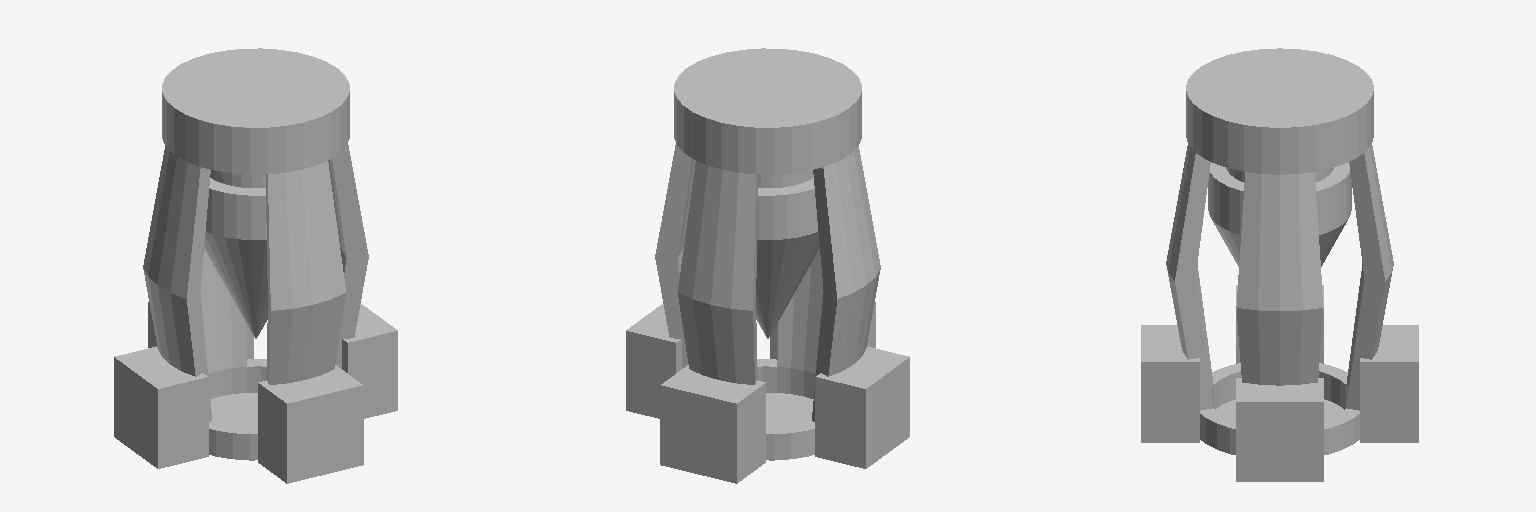
Rendered from drill.obj.
3 renders of one model, left to right at view 1: azimuth 30°, elevation 25°; view 2: azimuth 150°, elevation 25°; view 3: azimuth 270°, elevation 25°, orthographic.
Parts seen in each view (by area): view 1: Circle, Cube, Circle.001, Cone; view 2: Circle, Cube, Circle.001, Cone; view 3: Circle, Cube, Circle.001, Cone.
Boxes of the visible parts, <box> form: Circle: <box>143,144,368,460</box>; Cube: <box>114,302,397,483</box>; Circle.001: <box>162,48,349,174</box>; Cone: <box>204,170,267,338</box>; Circle: <box>655,144,880,460</box>; Cube: <box>626,302,909,483</box>; Circle.001: <box>674,48,861,174</box>; Cone: <box>756,170,819,338</box>; Circle: <box>1166,144,1393,454</box>; Cube: <box>1141,285,1418,481</box>; Circle.001: <box>1186,48,1373,174</box>; Cone: <box>1208,162,1351,266</box>.
Size of the model in its own units: 3.86 by 5.16 by 3.86.